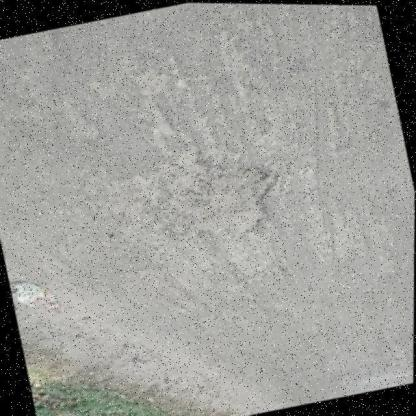pothole: (144, 122, 297, 256)
